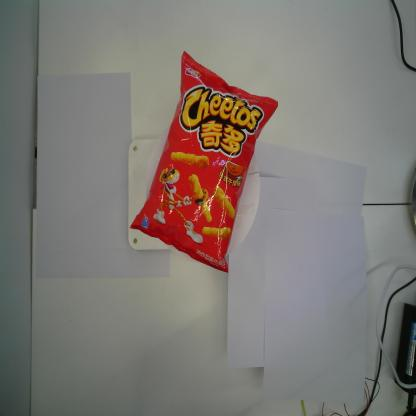Puffed Food: (128, 51, 279, 274)
